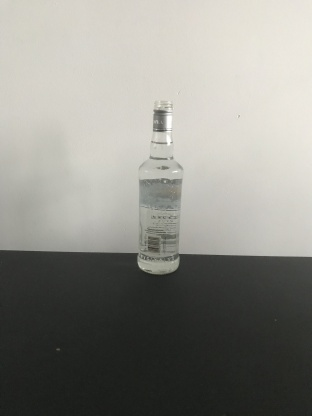nakretka: (151, 98, 174, 133)
